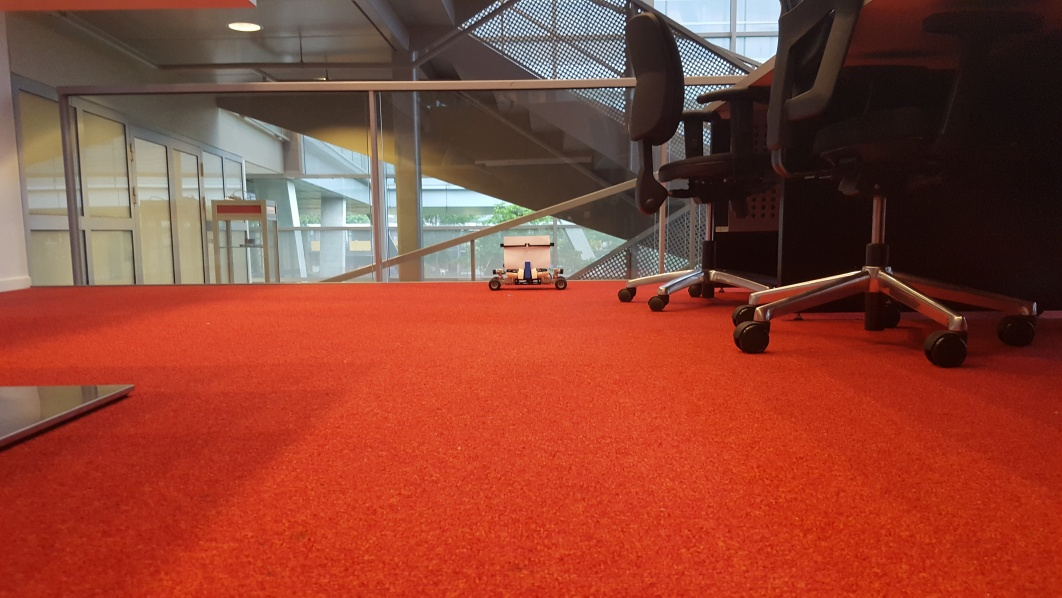car: (487, 237, 566, 293)
